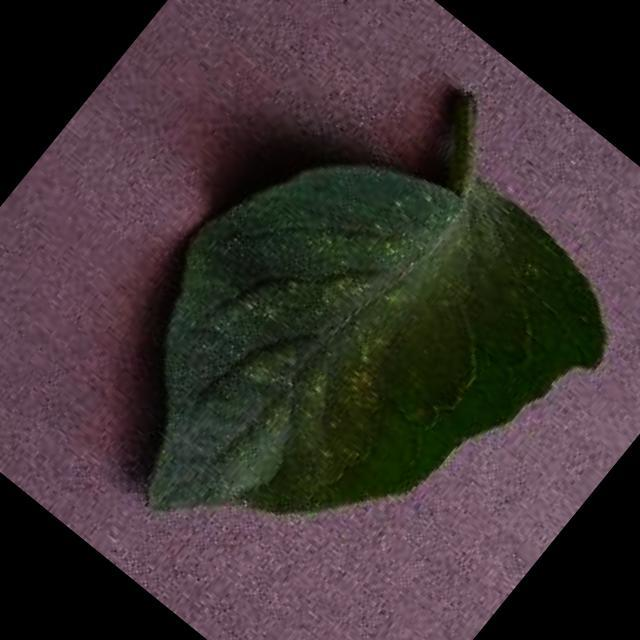Tomato spider mites leaf: (42, 59, 640, 640)
